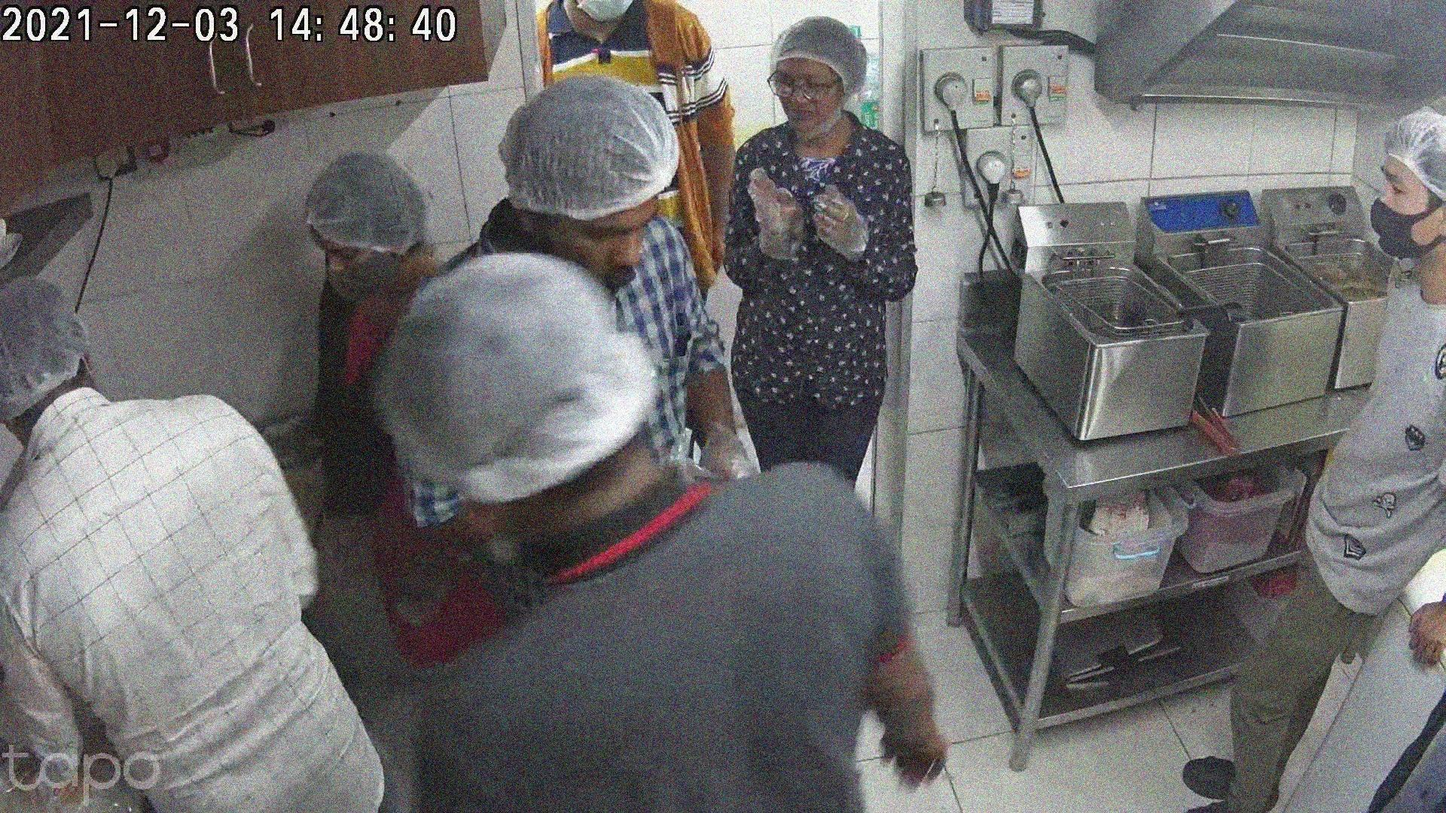apron: (797, 157, 893, 291), (747, 151, 820, 292), (694, 417, 776, 496)
gloves: (383, 254, 660, 512), (500, 76, 696, 219), (1, 257, 102, 438), (302, 144, 438, 251), (1369, 91, 1446, 210), (767, 13, 883, 83)
mask: (307, 244, 411, 309), (1371, 180, 1432, 254)
no_apron: (877, 708, 964, 799), (1381, 593, 1446, 672)
no_hairnet: (558, 204, 656, 266), (776, 58, 840, 128)
